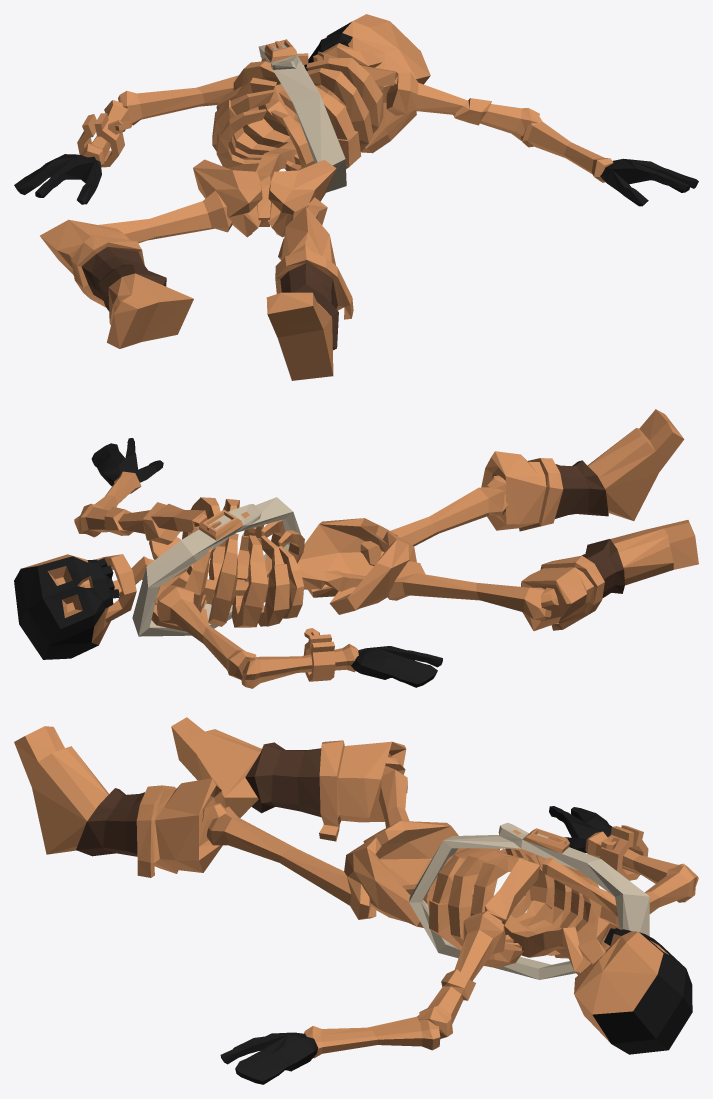
The model's file is SM_Prop_Skeleton_Ground_01.glb.
3 renders of one model, top to bottom at view 1: azimuth 30°, elevation 25°; view 2: azimuth 150°, elevation 25°; view 3: azimuth 270°, elevation 25°, orthographic. The views are drawn at different scales.
Visible parts, largest first — view 1: SM_Prop_Skeleton_Ground_01_00; view 2: SM_Prop_Skeleton_Ground_01_00; view 3: SM_Prop_Skeleton_Ground_01_00.
Part boxes in pixels (box(x1,y1,x2,y2)): SM_Prop_Skeleton_Ground_01_00: box(14, 14, 698, 380); SM_Prop_Skeleton_Ground_01_00: box(14, 409, 698, 688); SM_Prop_Skeleton_Ground_01_00: box(14, 717, 698, 1084).
Size of the model in its own units: 1.7 by 0.4034 by 1.55.
1 material, 1 textured.
